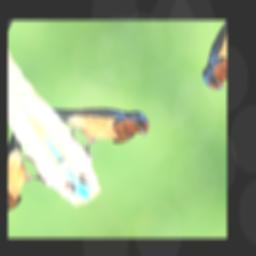Swallow: (49, 71, 156, 169)
